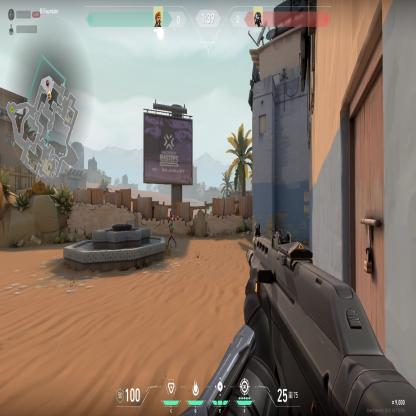enemy: (166, 209, 178, 247)
